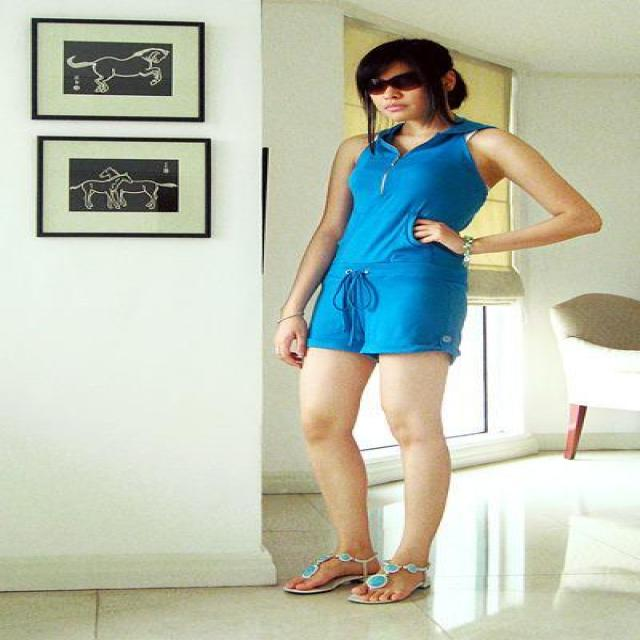dress: (307, 117, 491, 370)
shoe: (342, 550, 430, 602)
sunglass: (391, 64, 438, 91)
